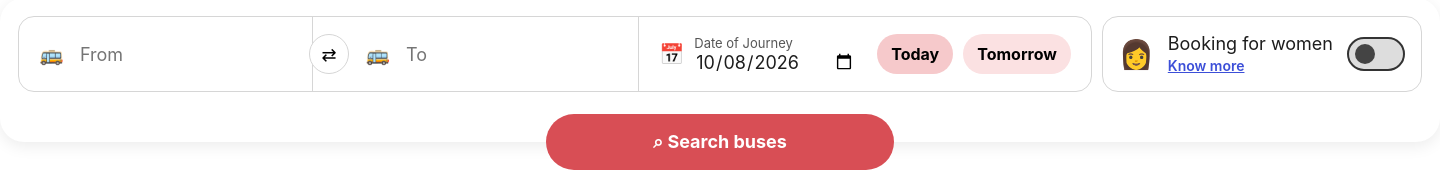
Test: SearchCard › closes any open suggestion list for both fields when swap is clicked
Type "pu" into the dropdown labelled "From".
click(185, 54); type("pu")  # box [78, 42, 292, 66]
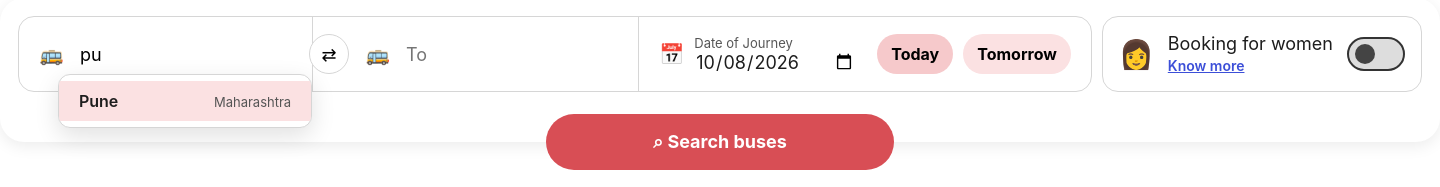
Result: the list is shown at [58, 74, 312, 128]
Click the button named "Swap From and To".
click(329, 54)  # box [309, 34, 349, 74]
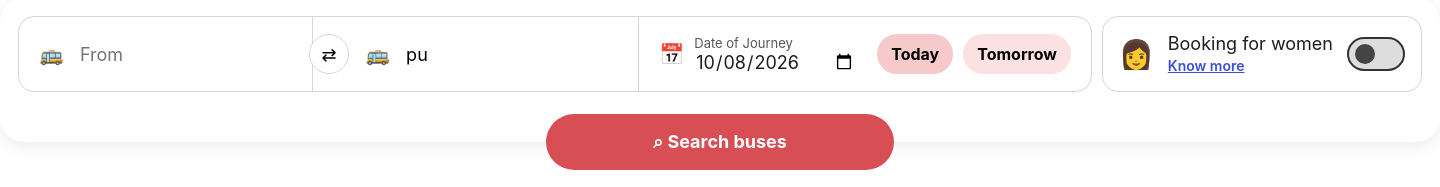
Result: the list is gone
